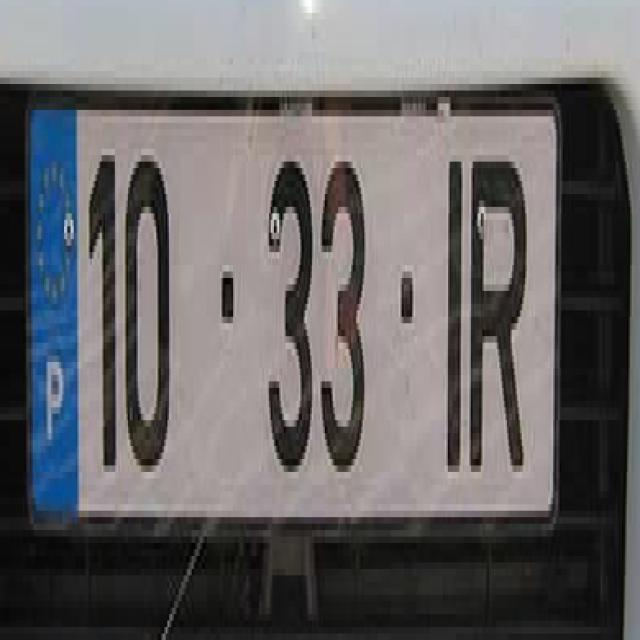EU: (25, 86, 558, 514)
Portugal: (24, 100, 80, 522)
